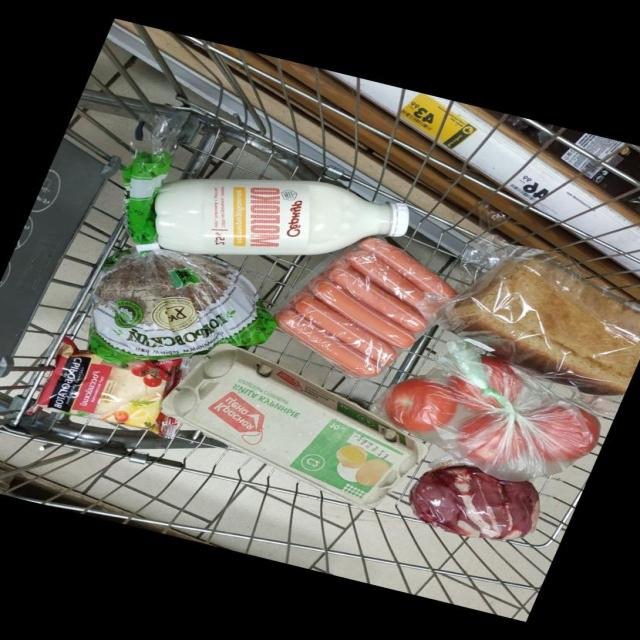cheese: (64, 211, 225, 640)
egg: (111, 222, 399, 640)
milk: (69, 121, 255, 373)
tomato: (190, 208, 597, 639), (225, 225, 640, 640), (227, 201, 640, 614), (264, 213, 640, 640), (252, 210, 640, 594)
